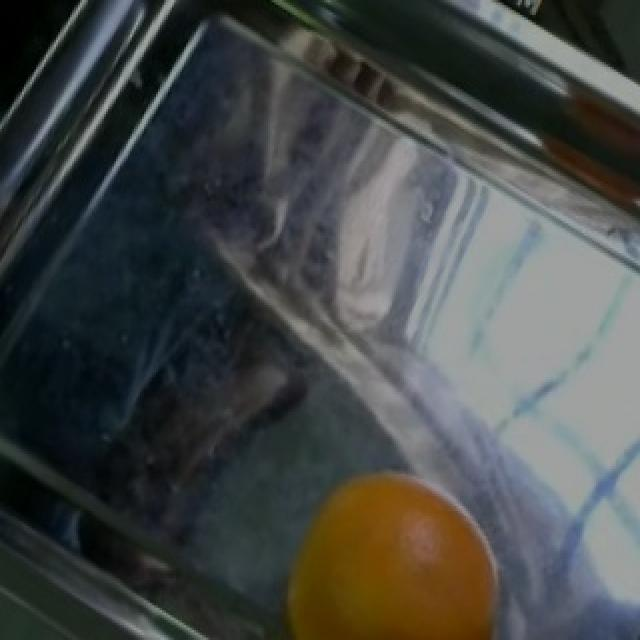Fruit: (264, 444, 518, 640)
